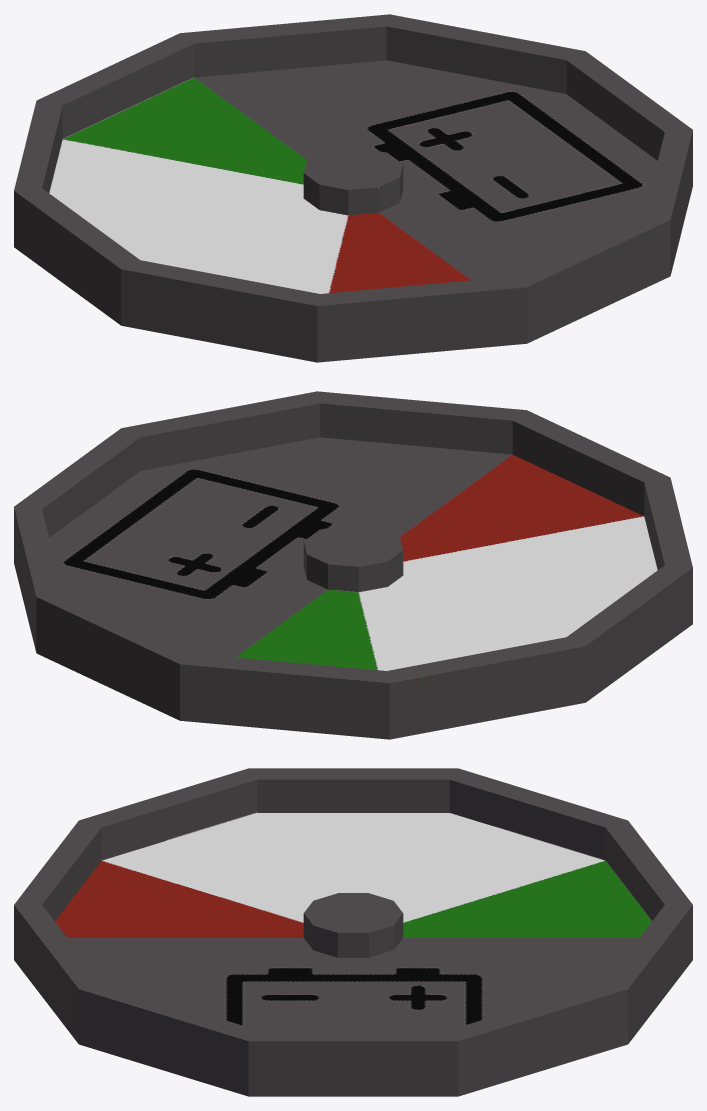
File: DialBaseBattery2.fbx
The picture shows the model from 3 angles, top to bottom: view 1: azimuth 30°, elevation 25°; view 2: azimuth 150°, elevation 25°; view 3: azimuth 270°, elevation 25°; orthographic projection. The views are drawn at different scales.
Parts seen in each view (by area): view 1: Cylinder; view 2: Cylinder; view 3: Cylinder.
Part boxes in pixels (box(x1,y1,x2,y2)): Cylinder: box(14, 14, 692, 362); Cylinder: box(14, 391, 692, 739); Cylinder: box(14, 768, 692, 1096).
Bounding box in the file's own units: 207 × 19.59 × 218.
Materials: 1 (1 with a texture image).
